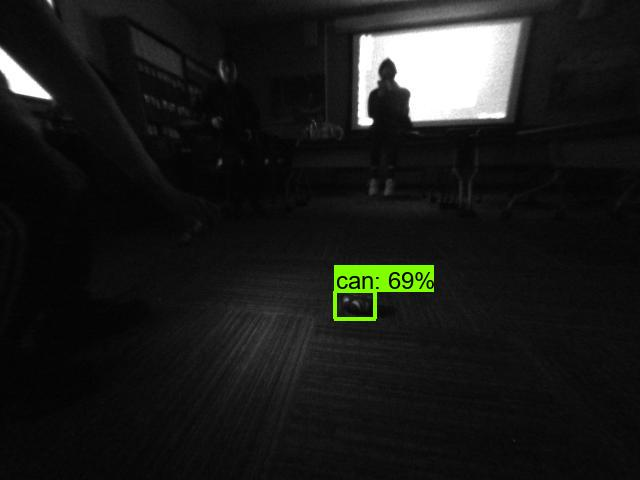can: (336, 292, 380, 317)
